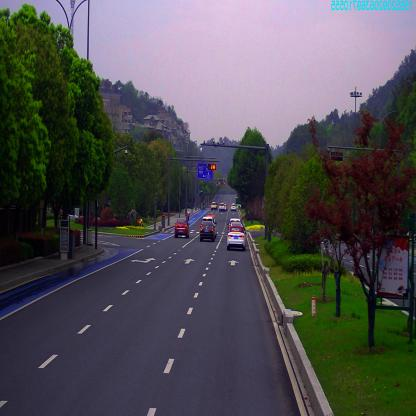traffic-light: (208, 163, 216, 170)
